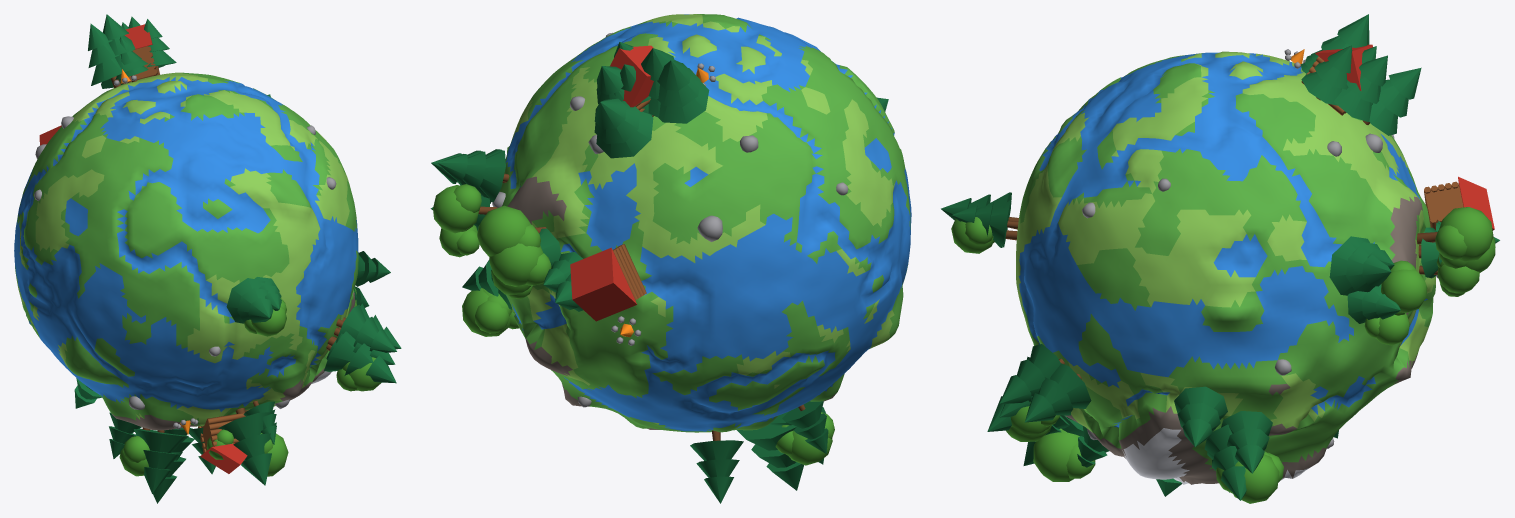
The model's file is Escandalosos.obj.
The picture shows the model from 3 angles, left to right: view 1: azimuth 30°, elevation 25°; view 2: azimuth 150°, elevation 25°; view 3: azimuth 270°, elevation 25°; orthographic projection. The views are drawn at different scales.
Parts seen in each view (by area): view 1: Planeta_Escandalosos, Bosques, Cabanas, Rocas; view 2: Planeta_Escandalosos, Bosques, Cabanas, Rocas; view 3: Planeta_Escandalosos, Bosques, Cabanas, Rocas.
Part boxes in pixels (box(x1,y1,x2,y2)): Planeta_Escandalosos: box(14, 72, 358, 430); Bosques: box(74, 14, 401, 503); Cabanas: box(39, 24, 247, 473); Rocas: box(34, 116, 336, 409); Planeta_Escandalosos: box(499, 14, 911, 432); Bosques: box(430, 42, 888, 503); Cabanas: box(570, 45, 716, 345); Rocas: box(492, 32, 848, 407); Planeta_Escandalosos: box(1016, 51, 1435, 484); Bosques: box(941, 14, 1499, 503); Cabanas: box(1284, 44, 1494, 278); Rocas: box(1082, 133, 1394, 448).
Size of the model in its own units: 11.44 by 13.37 by 13.54.
